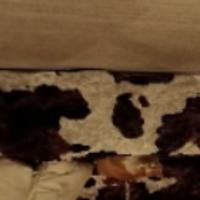asleep: (93, 154, 164, 187)
